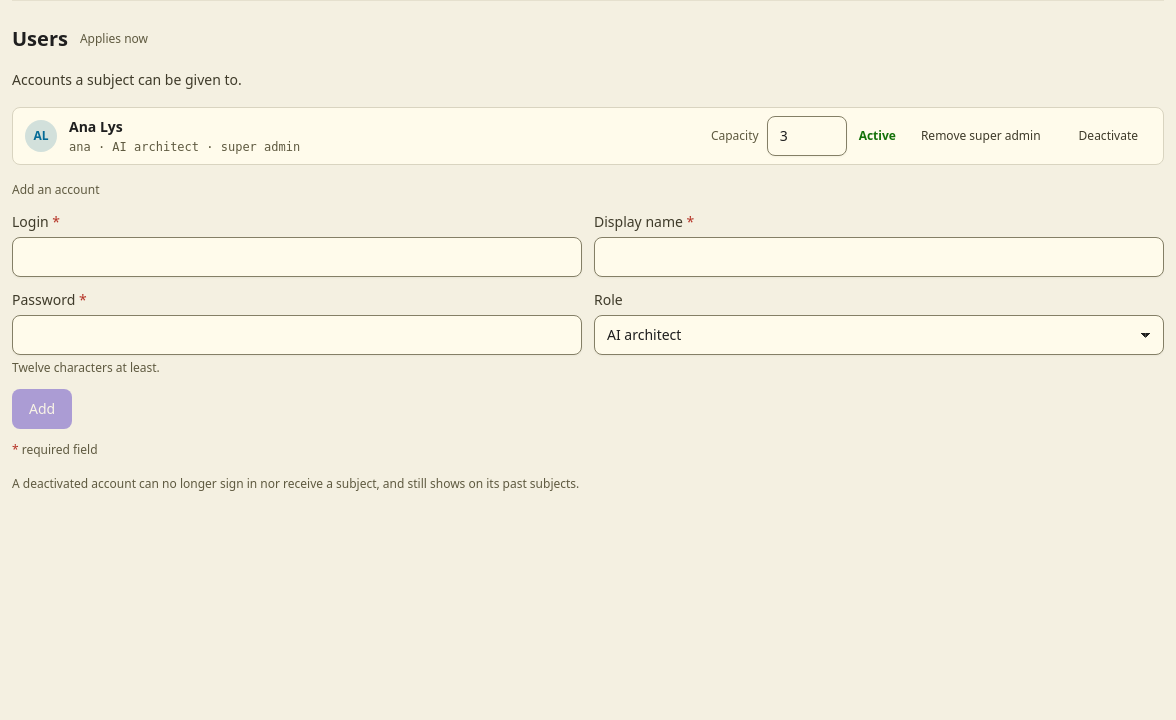
Test case: UsersSection › shows the refusal when removing the last super admin
Step 1. Click the button with aria-label "Remove super admin: Ana Lys" → (981, 136), box [908, 120, 1054, 152]
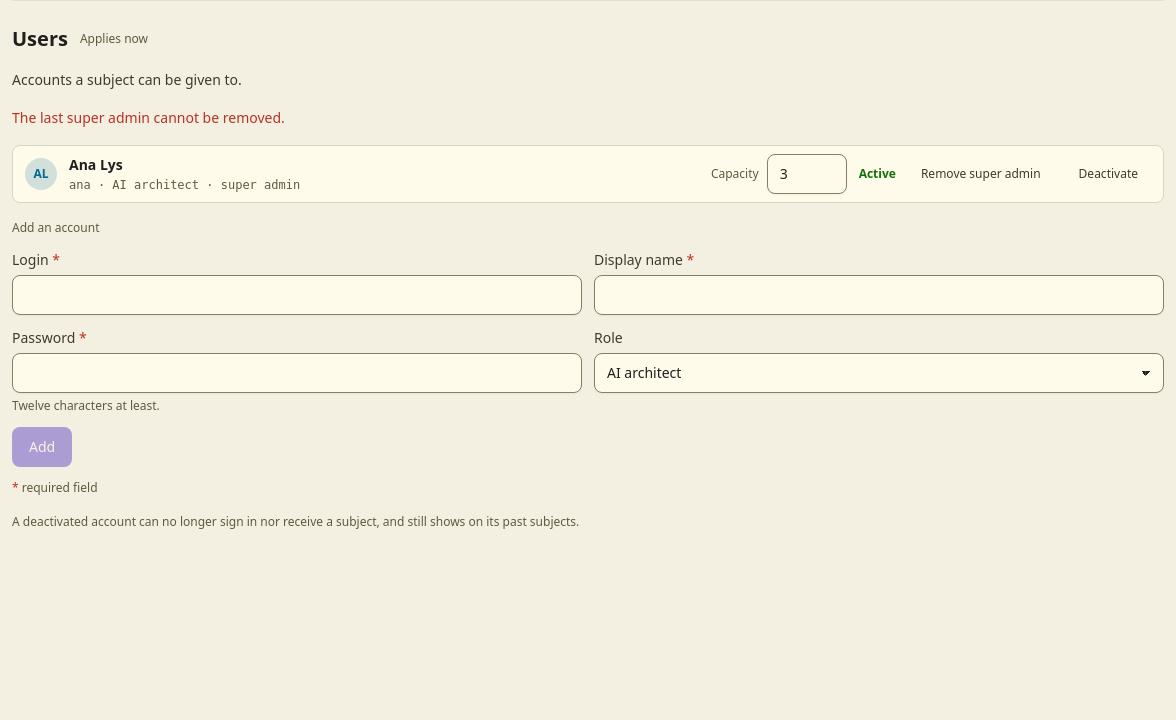
expect the message "The last super admin cannot be removed." is shown: met, box [12, 108, 285, 127]
